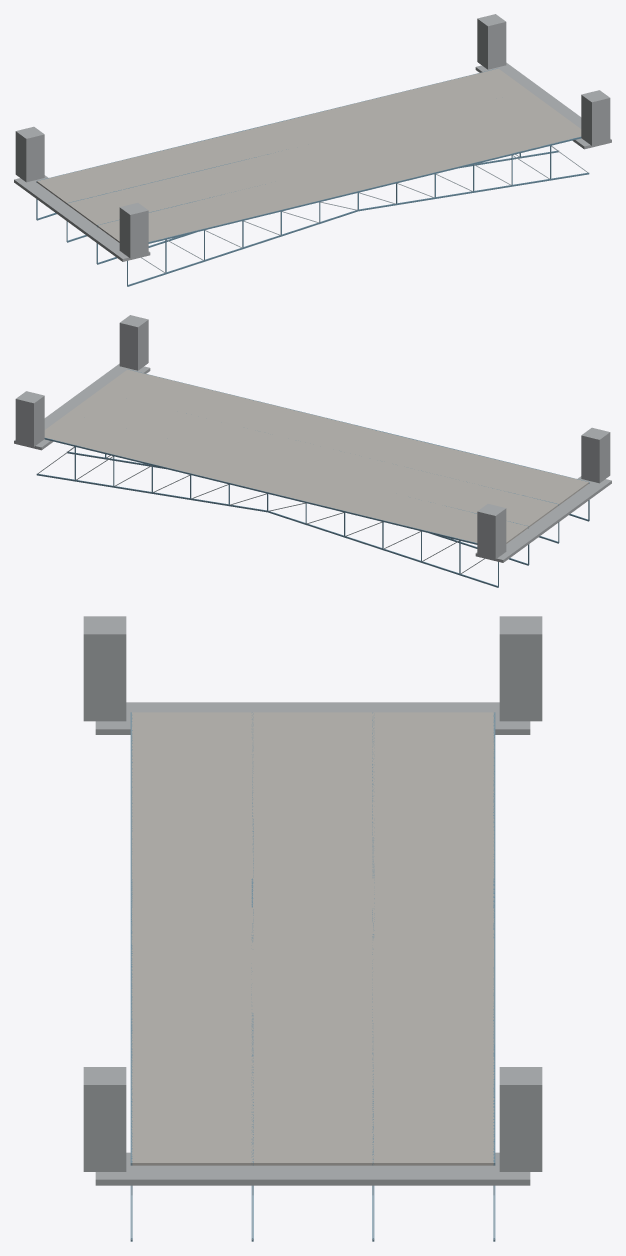
The model's file is bridge.glb.
3 renders of one model, top to bottom at view 1: azimuth 30°, elevation 25°; view 2: azimuth 150°, elevation 25°; view 3: azimuth 270°, elevation 25°, orthographic. The views are drawn at different scales.
Visible parts, largest first — view 1: deck_002, deck_001, bearing_block_001, bridge_house_001, bridge_house_002, bridge_house_003, bridge_house_004, bearing_block_002, leaf_upper_chord_005, leaf_upper_chord_001; view 2: deck_002, deck_001, bearing_block_001, bridge_house_002, bridge_house_001, bridge_house_004, bridge_house_003, bearing_block_002, leaf_upper_chord_008, leaf_upper_chord_004; view 3: deck_002, deck_001, bearing_block_002, bearing_block_001, bridge_house_001, bridge_house_002, bridge_house_003, bridge_house_004.
Boxes of the visible parts, bbox=[...] form: deck_002: bbox=[268, 68, 581, 190]; deck_001: bbox=[37, 125, 357, 242]; bearing_block_001: bbox=[14, 175, 150, 261]; bridge_house_001: bbox=[119, 203, 148, 258]; bridge_house_002: bbox=[15, 126, 44, 182]; bridge_house_003: bbox=[581, 90, 610, 145]; bridge_house_004: bbox=[477, 14, 506, 69]; bearing_block_002: bbox=[475, 62, 611, 149]; leaf_upper_chord_005: bbox=[358, 136, 581, 192]; leaf_upper_chord_001: bbox=[148, 191, 358, 243]; deck_002: bbox=[44, 369, 357, 491]; deck_001: bbox=[268, 426, 588, 543]; bearing_block_001: bbox=[475, 476, 611, 562]; bridge_house_002: bbox=[477, 504, 506, 559]; bridge_house_001: bbox=[581, 427, 610, 483]; bridge_house_004: bbox=[15, 391, 44, 446]; bridge_house_003: bbox=[119, 315, 148, 370]; bearing_block_002: bbox=[14, 363, 150, 450]; leaf_upper_chord_008: bbox=[44, 437, 267, 493]; leaf_upper_chord_004: bbox=[267, 492, 477, 544]; deck_002: bbox=[131, 937, 494, 1165]; deck_001: bbox=[131, 712, 494, 937]; bearing_block_002: bbox=[95, 1152, 530, 1185]; bearing_block_001: bbox=[95, 702, 530, 734]; bridge_house_001: bbox=[83, 616, 126, 721]; bridge_house_002: bbox=[499, 616, 542, 721]; bridge_house_003: bbox=[83, 1067, 126, 1171]; bridge_house_004: bbox=[499, 1067, 542, 1171].
Bounding box in the file's own units: 106 × 17.15 × 43.
